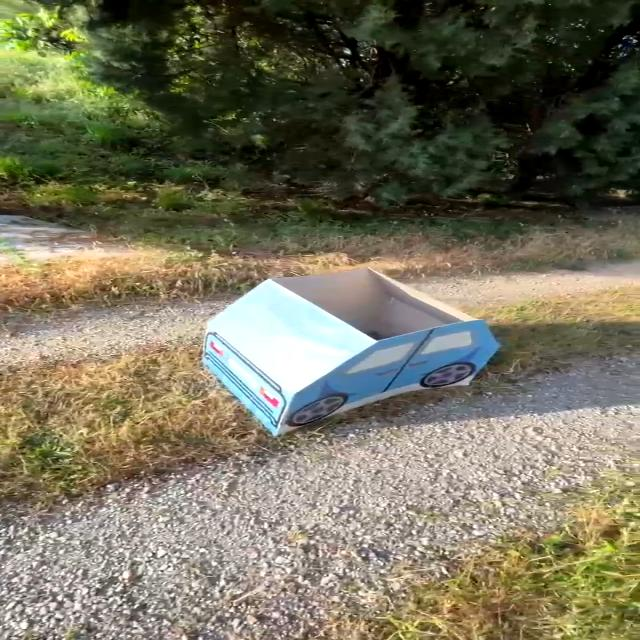blue_car: (140, 253, 532, 468)
